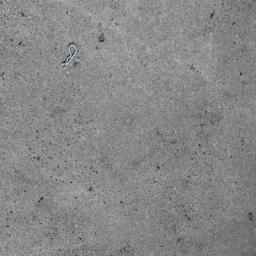FOD: (60, 43, 80, 72)
